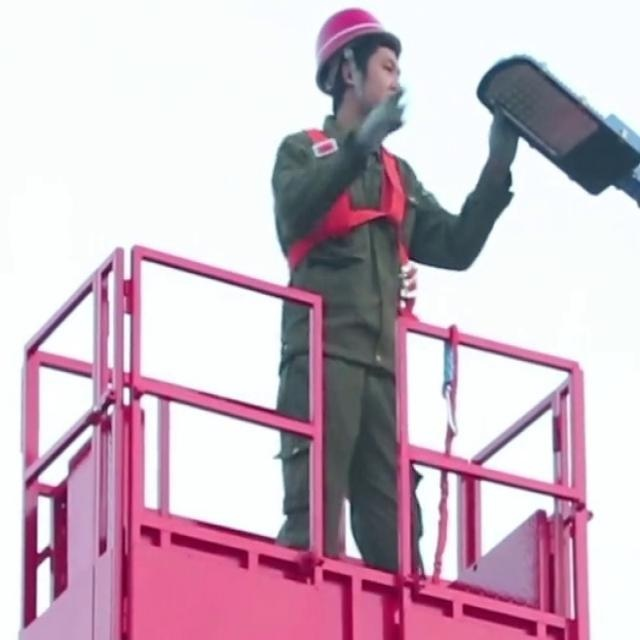Arnes_seguridad: (277, 117, 417, 287)
